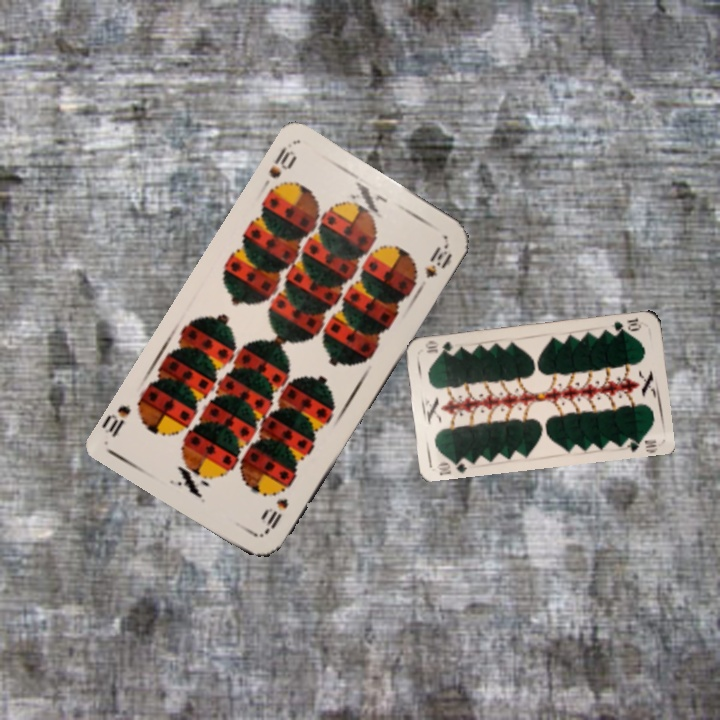G10: (433, 454, 472, 477), (610, 313, 644, 335)
S10: (256, 142, 300, 194), (260, 494, 291, 537)
